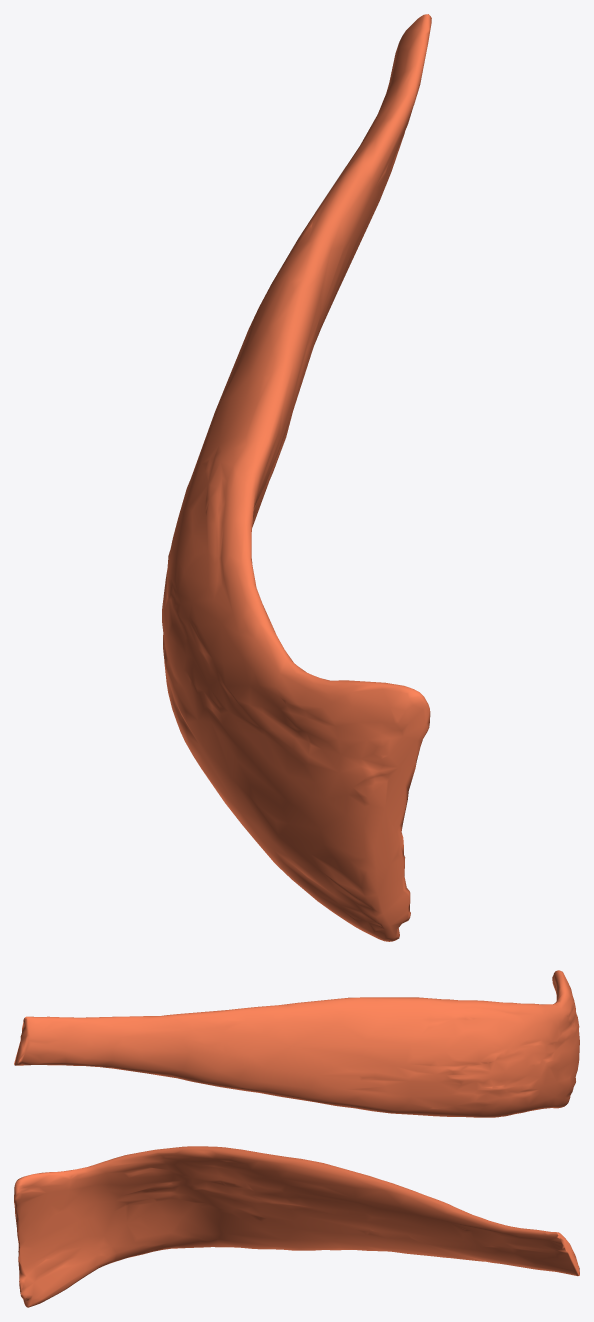
File: Lateral_rectus_muscle.r_grp1.012.glb
3 views of the same model, one above another, from view 1: azimuth 30°, elevation 25°; view 2: azimuth 150°, elevation 25°; view 3: azimuth 270°, elevation 25° (orthographic). The views are drawn at different scales.
Parts seen in each view (by area): view 1: Lateral_rectus_muscle.r_grp1.012; view 2: Lateral_rectus_muscle.r_grp1.012; view 3: Lateral_rectus_muscle.r_grp1.012.
Boxes of the visible parts, x1=… form: Lateral_rectus_muscle.r_grp1.012: x1=162, y1=14, x2=431, y2=941; Lateral_rectus_muscle.r_grp1.012: x1=14, y1=970, x2=579, y2=1117; Lateral_rectus_muscle.r_grp1.012: x1=14, y1=1146, x2=579, y2=1307.
Bounding box in the file's own units: 0.0265 × 0.0165 × 0.0398.
